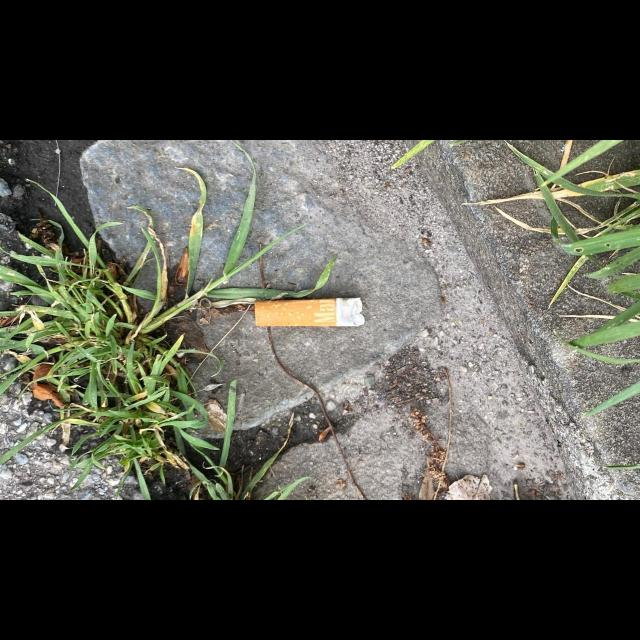cigarette: (254, 296, 365, 328)
